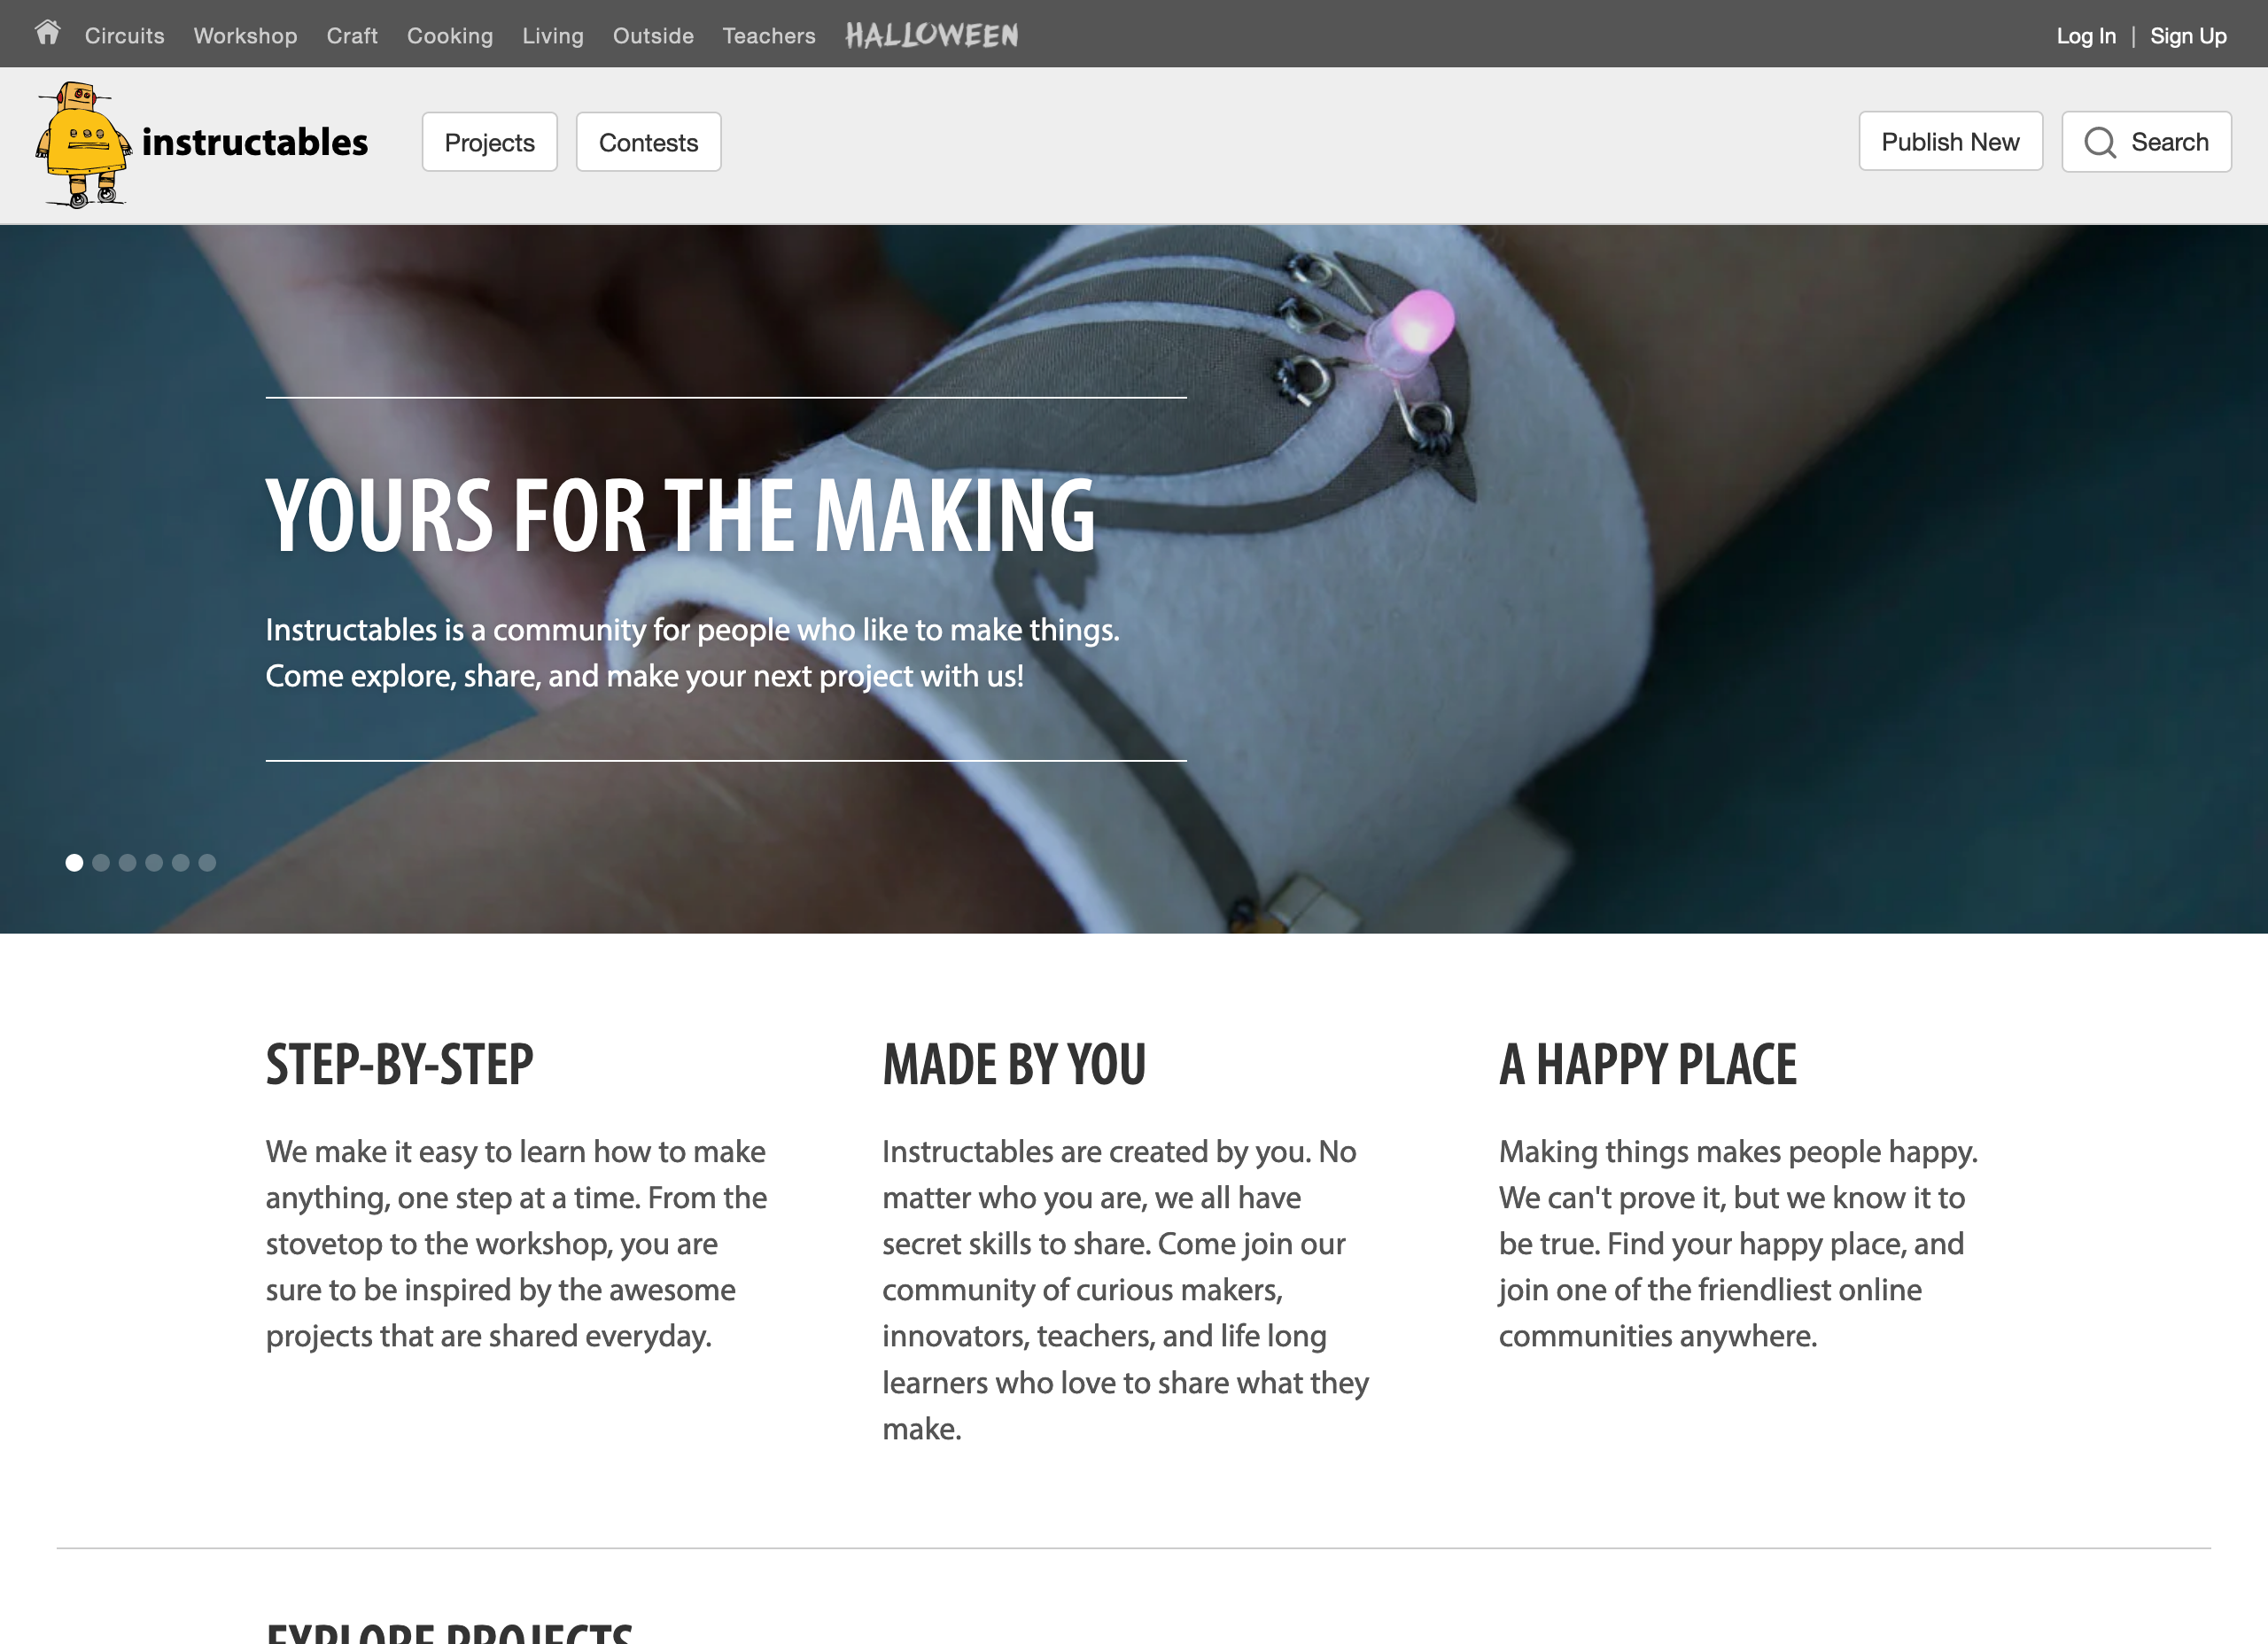Login: (2046, 18, 2122, 58)
